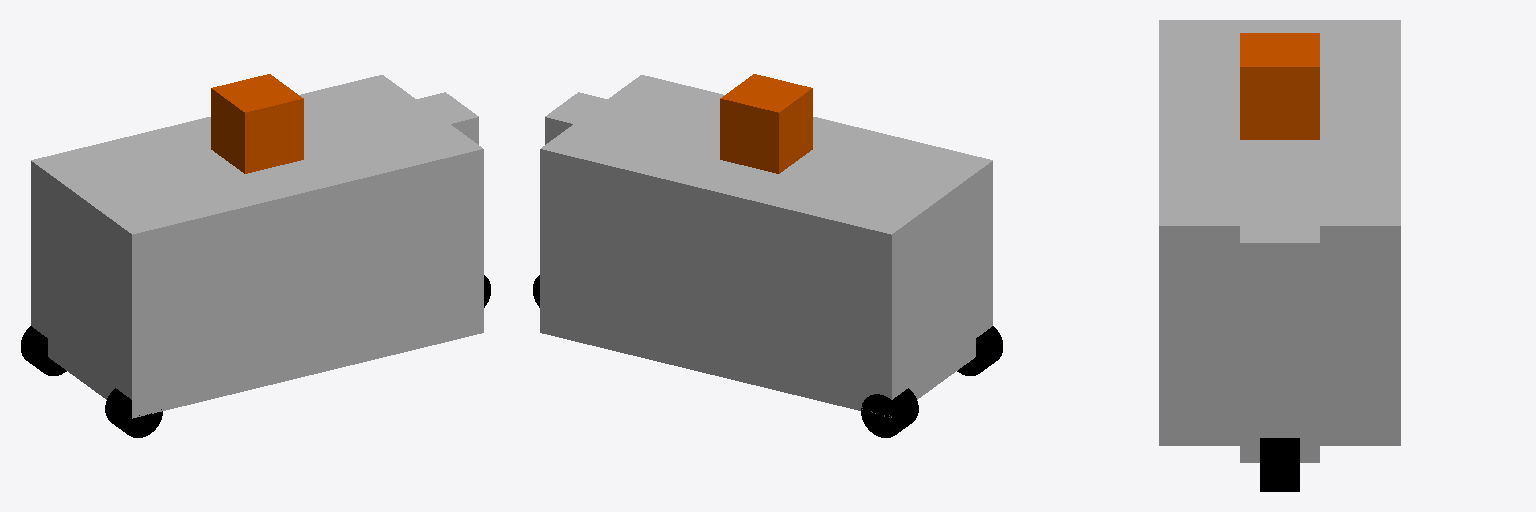
robot.urdf — tortoisebot:
<?xml version="1.0"?>
<robot name="tortoisebot">

  <link name="base_link">
    <visual>
      <geometry>
        <box size="0.6 0.3 0.3"/>
      </geometry>
      <material name="silver">
        <color rgba="0.75 0.75 0.75 1"/>
      </material>
    </visual>
    <collision>
      <geometry>
        <box size="0.6 0.3 0.3"/>
      </geometry>
    </collision>
    <inertial>
      <mass value="1.0"/>
      <inertia ixx="0.015" iyy="0.0375" izz="0.0375" ixy="0" ixz="0" iyz="0"/>
    </inertial>
  </link>

  <link name="front_caster">
    <visual>
      <geometry>
        <box size="0.1 0.1 0.3"/>
      </geometry>
      <material name="silver"/>
    </visual>
    <collision>
      <geometry>
        <box size="0.1 0.1 0.3"/>
      </geometry>
    </collision>
    <inertial>
      <mass value="0.1"/>
      <inertia ixx="0.00083" iyy="0.00083" izz="0.000167" ixy="0" ixz="0" iyz="0"/>
    </inertial>
  </link>

  <joint name="front_caster_joint" type="continuous">
    <axis xyz="0 0 1"/>
    <parent link="base_link"/>
    <child link="front_caster"/>
    <origin rpy="0 0 0" xyz="0.3 0 0"/>
  </joint>

  <link name="front_wheel">
    <visual>
      <geometry>
        <cylinder length="0.05" radius="0.035"/>
      </geometry>
      <material name="black"/>
    </visual>
    <collision>
      <geometry>
        <cylinder length="0.05" radius="0.035"/>
      </geometry>
    </collision>
    <inertial>
      <mass value="0.1"/>
      <inertia ixx="5.1458e-5" iyy="5.1458e-5" izz="6.125e-5" ixy="0" ixz="0" iyz="0"/>
    </inertial>
  </link>

  <joint name="front_wheel_joint" type="continuous">
    <axis xyz="0 0 1"/>
    <parent link="front_caster"/>
    <child link="front_wheel"/>
    <origin rpy="-1.5708 0 0" xyz="0.05 0 -.15"/>
  </joint>

  <link name="right_wheel">
    <visual>
      <geometry>
        <cylinder length="0.05" radius="0.035"/>
      </geometry>
      <material name="black">
        <color rgba="0 0 0 1"/>
      </material>
    </visual>
    <collision>
      <geometry>
        <cylinder length="0.05" radius="0.035"/>
      </geometry>
    </collision>
    <inertial>
      <mass value="0.1"/>
      <inertia ixx="5.1458e-5" iyy="5.1458e-5" izz="6.125e-5" ixy="0" ixz="0" iyz="0"/>
    </inertial>
  </link>

  <joint name="right_wheel_joint" type="continuous">
    <axis xyz="0 0 1"/>
    <parent link="base_link"/>
    <child link="right_wheel"/>
    <origin rpy="-1.5708 0 0" xyz="-0.2825 -0.125 -.15"/>
  </joint>

  <link name="left_wheel">
    <visual>
      <geometry>
        <cylinder length="0.05" radius="0.035"/>
      </geometry>
      <material name="black"/>
    </visual>
    <collision>
      <geometry>
        <cylinder length="0.05" radius="0.035"/>
      </geometry>
    </collision>
    <inertial>
      <mass value="0.1"/>
      <inertia ixx="5.1458e-5" iyy="5.1458e-5" izz="6.125e-5" ixy="0" ixz="0" iyz="0"/>
    </inertial>
  </link>

  <joint name="left_wheel_joint" type="continuous">
    <axis xyz="0 0 1"/>
    <parent link="base_link"/>
    <child link="left_wheel"/>
    <origin rpy="-1.5708 0 0" xyz="-0.2825 0.125 -.15"/>
  </joint>

  <link name="hokuyo_link">
    <collision>
      <origin xyz="0 0 0" rpy="0 0 0"/>
      <geometry>
        <box size="0.1 0.1 0.1"/>
      </geometry>
    </collision>
    <visual>
      <origin xyz="0 0 0" rpy="0 0 0"/>
      <geometry>
        <box size="0.1 0.1 0.1"/>
      </geometry>
    </visual>
    <inertial>
      <mass value="1e-5" />
      <origin xyz="0 0 0" rpy="0 0 0"/>
      <inertia ixx="1e-6" ixy="0" ixz="0" iyy="1e-6" iyz="0" izz="1e-6" />
    </inertial>
  </link>

  <joint name="hokuyo_joint" type="fixed">
    <axis xyz="0 1 0" />
    <origin xyz="0 0 0.2" rpy="0 0 0"/>
    <parent link="base_link"/>
    <child link="hokuyo_link"/>
  </joint>

  <gazebo>
    <plugin name="differential_drive_controller" filename="libgazebo_ros_diff_drive.so">
      <leftJoint>right_wheel_joint</leftJoint>
      <rightJoint>left_wheel_joint</rightJoint>
      <robotBaseFrame>base_link</robotBaseFrame>
      <wheelSeparation>0.25</wheelSeparation>
      <wheelDiameter>0.07</wheelDiameter>
      <publishWheelJointState>true</publishWheelJointState>
    </plugin>
  </gazebo>

  <gazebo>
    <plugin name="joint_state_publisher" filename="libgazebo_ros_joint_state_publisher.so">
      <jointName>front_caster_joint, front_wheel_joint</jointName>
    </plugin>
  </gazebo>

  <gazebo reference="hokuyo_link">
    <sensor type="gpu_ray" name="hokuyo">
      <pose>0 0 0 0 0 0</pose>
      <visualize>false</visualize>
      <update_rate>40</update_rate>
      <ray>
        <scan>
          <horizontal>
            <samples>720</samples>
            <resolution>1</resolution>
            <min_angle>-1.570796</min_angle>
            <max_angle>1.570796</max_angle>
          </horizontal>
        </scan>
        <range>
          <min>0.10</min>
          <max>30.0</max>
          <resolution>0.01</resolution>
        </range>
      </ray>
      <plugin name="gpu_laser" filename="libgazebo_ros_gpu_laser.so">
        <topicName>/scan</topicName>
        <frameName>hokuyo_link</frameName>
      </plugin>
    </sensor>
  </gazebo>
</robot>

--- Facts derived from the render (not from the file) ---
The picture shows the robot from 3 angles, left to right: view 1: azimuth 30°, elevation 25°; view 2: azimuth 150°, elevation 25°; view 3: azimuth 270°, elevation 25°; orthographic projection.
Model tortoisebot with 6 links and 5 joints (4 continuous, 1 fixed), rooted at base_link, posed every joint at zero.
Links seen in each view (by area): view 1: base_link, hokuyo_link, right_wheel, front_caster, left_wheel; view 2: base_link, hokuyo_link, left_wheel, front_caster, right_wheel; view 3: base_link, front_caster, hokuyo_link, front_wheel.
Boxes of the visible links, left/top/right/bottom form: base_link: left=31, top=75, right=483, bottom=418; hokuyo_link: left=211, top=74, right=303, bottom=173; right_wheel: left=105, top=388, right=162, bottom=437; front_caster: left=388, top=92, right=478, bottom=144; left_wheel: left=21, top=326, right=66, bottom=375; base_link: left=540, top=75, right=992, bottom=417; hokuyo_link: left=720, top=74, right=812, bottom=173; left_wheel: left=861, top=388, right=918, bottom=437; front_caster: left=545, top=92, right=636, bottom=144; right_wheel: left=957, top=326, right=1002, bottom=375; base_link: left=1159, top=20, right=1400, bottom=445; front_caster: left=1240, top=209, right=1319, bottom=462; hokuyo_link: left=1240, top=33, right=1319, bottom=139; front_wheel: left=1260, top=438, right=1299, bottom=491.
Size in the robot's own frame: 0.7025 by 0.3 by 0.435 metres.
Geometry: primitives only (box / cylinder / sphere), no mesh files.